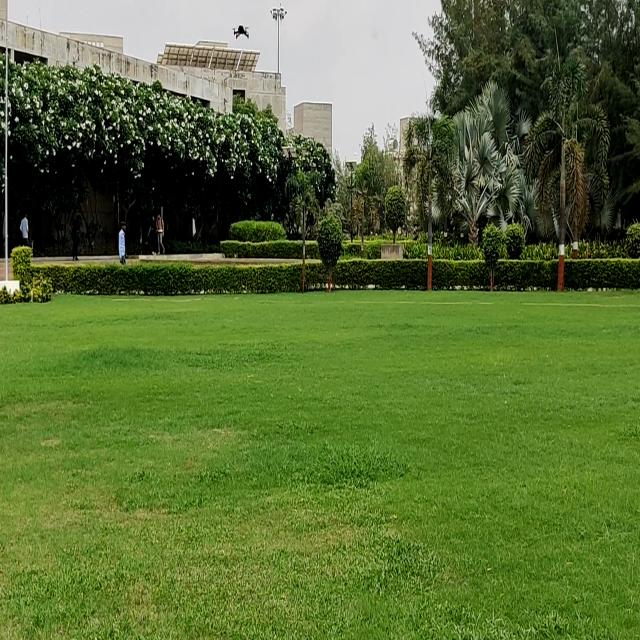drone: (227, 18, 256, 49)
